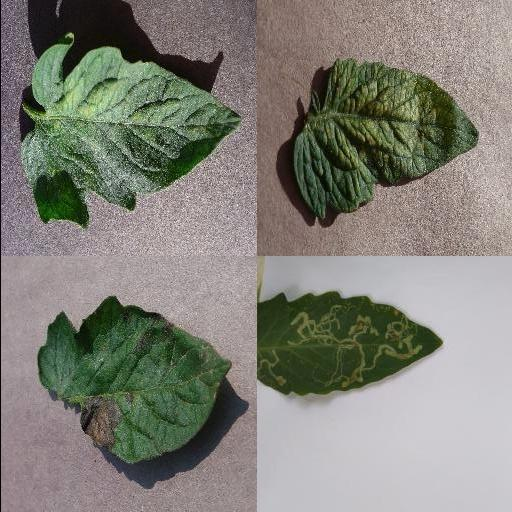Late Blight: (37, 295, 233, 465)
Leaf Miner: (259, 290, 443, 398)
Spider Mites: (17, 35, 245, 229), (293, 61, 479, 220)
